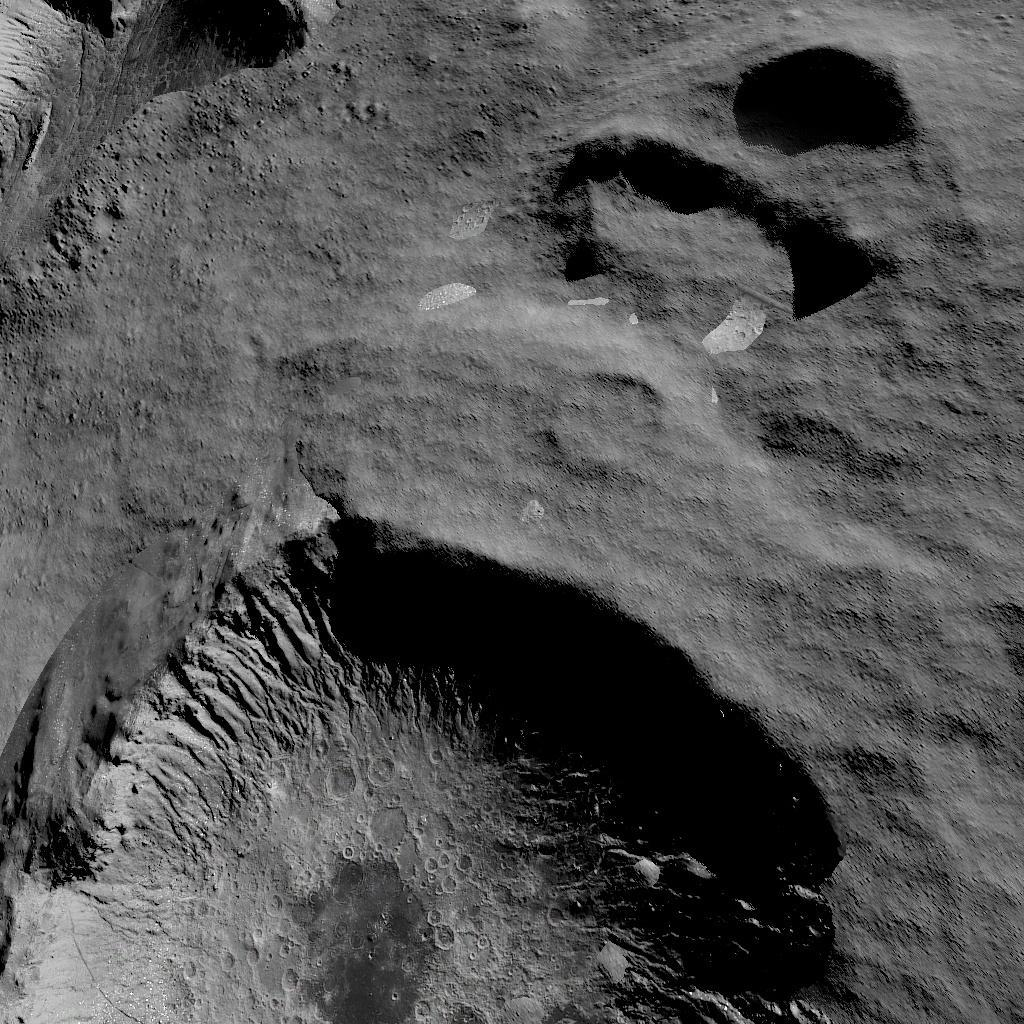Boulders: (0, 0, 394, 334)
Crater: (0, 502, 926, 1024), (529, 22, 939, 321), (561, 350, 722, 490)
